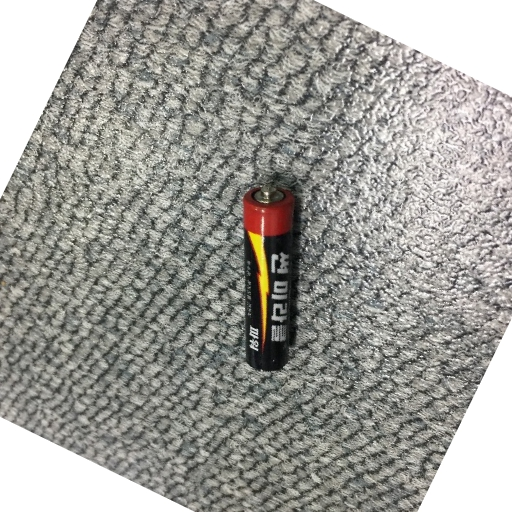Battery_0: (233, 174, 306, 381)
